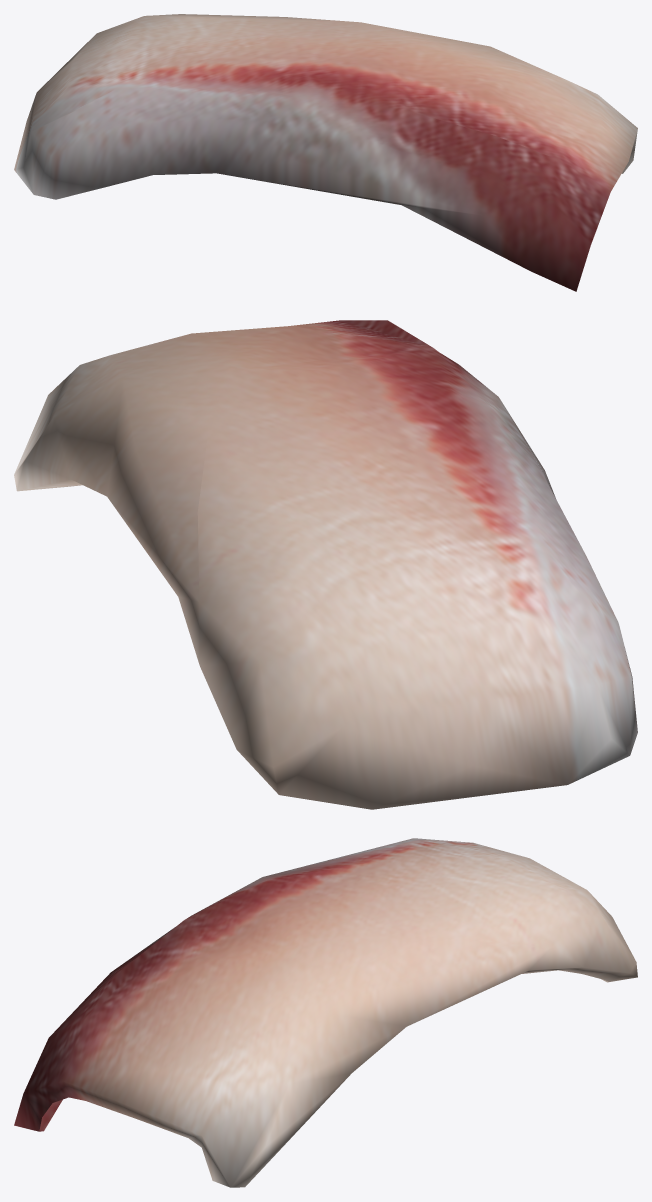
The model's file is _ilsashimi.fbx.
3 renders of one model, top to bottom at view 1: azimuth 30°, elevation 25°; view 2: azimuth 150°, elevation 25°; view 3: azimuth 270°, elevation 25°, orthographic. The views are drawn at different scales.
Visible parts, largest first — view 1: Salmon 4.003; view 2: Salmon 4.003; view 3: Salmon 4.003.
Part boxes in pixels (box(x1,y1,x2,y2)): Salmon 4.003: box(14, 14, 637, 291); Salmon 4.003: box(14, 320, 637, 809); Salmon 4.003: box(14, 838, 637, 1187).
Size of the model in its own units: 101 by 31.64 by 102.
1 material, 1 textured.
